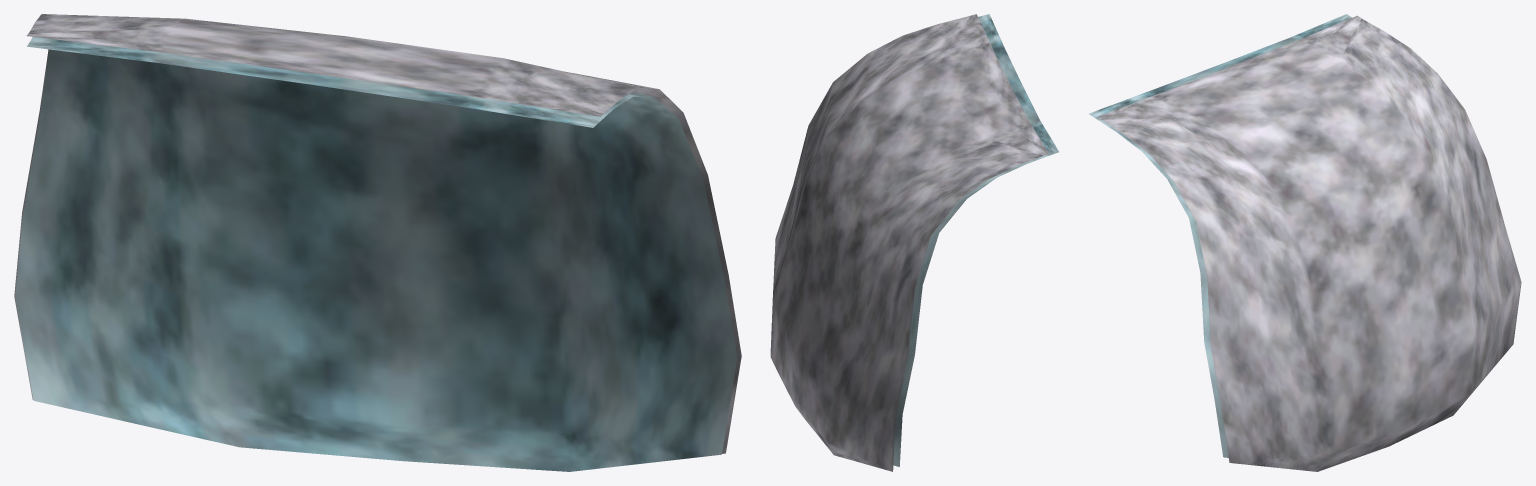
Rendered from CB_NEWPLAYSURFACE_CB_WATERFALLS13.fbx.
3 views of the same model, side by side, from view 1: azimuth 30°, elevation 25°; view 2: azimuth 150°, elevation 25°; view 3: azimuth 270°, elevation 25° (orthographic). The views are drawn at different scales.
Parts seen in each view (by area): view 1: CB_NEWPLAYSURFACE_CB_WATERFALLS13; view 2: CB_NEWPLAYSURFACE_CB_WATERFALLS13; view 3: CB_NEWPLAYSURFACE_CB_WATERFALLS13.
Part boxes in pixels (box(x1,y1,x2,y2)): CB_NEWPLAYSURFACE_CB_WATERFALLS13: box(14, 14, 741, 471); CB_NEWPLAYSURFACE_CB_WATERFALLS13: box(770, 14, 1058, 471); CB_NEWPLAYSURFACE_CB_WATERFALLS13: box(1088, 14, 1521, 471).
Bounding box in the file's own units: 68944 × 58843 × 73140.
Materials: 2 (2 with a texture image).
